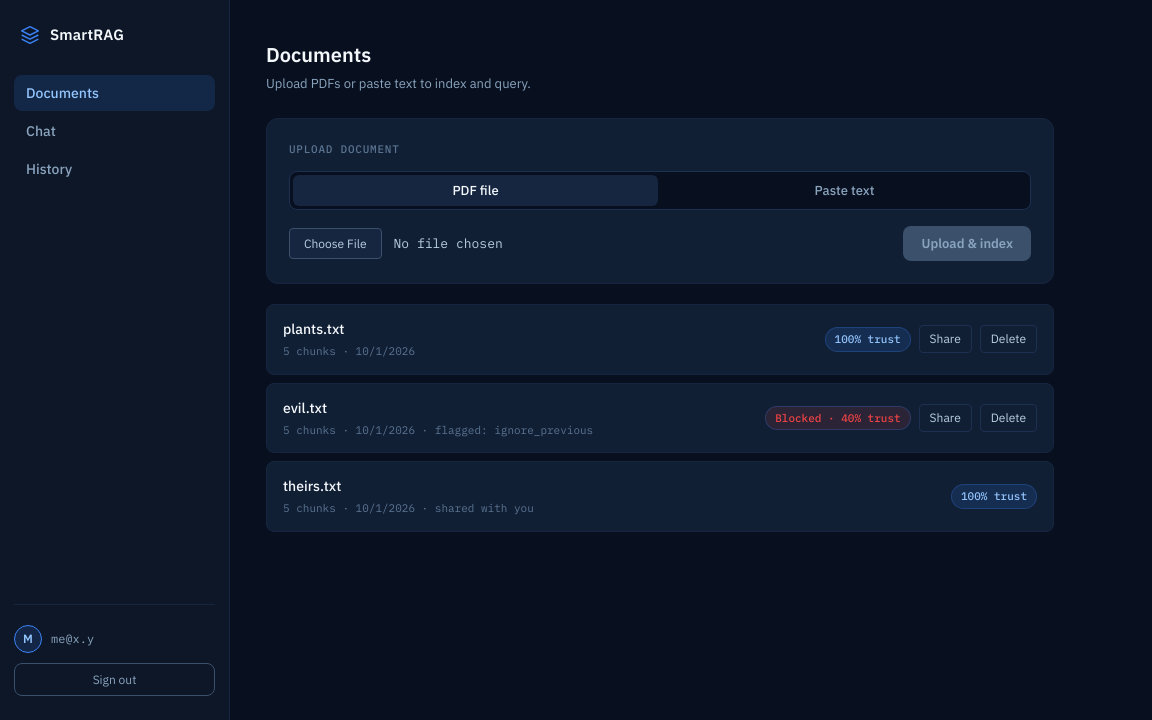
Test case: documents › shares a document by email and reports failures
Check: the text "plants.txt" is shown, box [283, 320, 344, 338]
Click the button with aria-label "Share plants.txt" at (945, 339), box [919, 325, 972, 353]
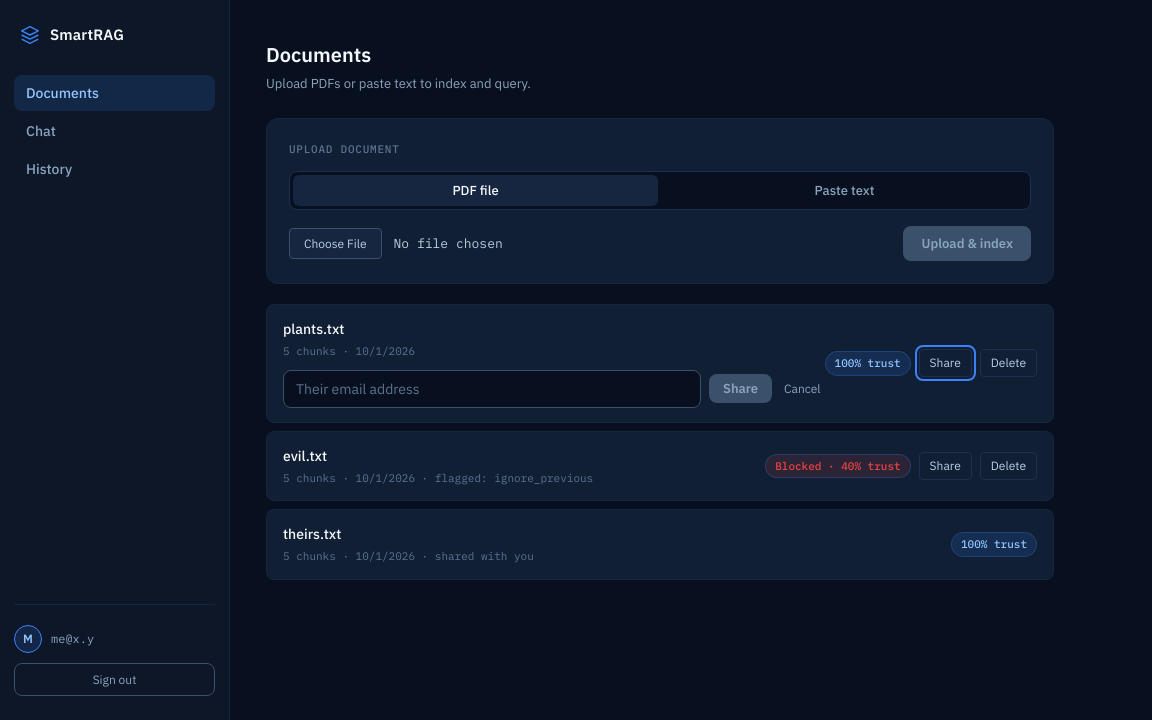
Type "friend@x.y" into the field named "Share with email" at (492, 388), box [283, 370, 701, 408]
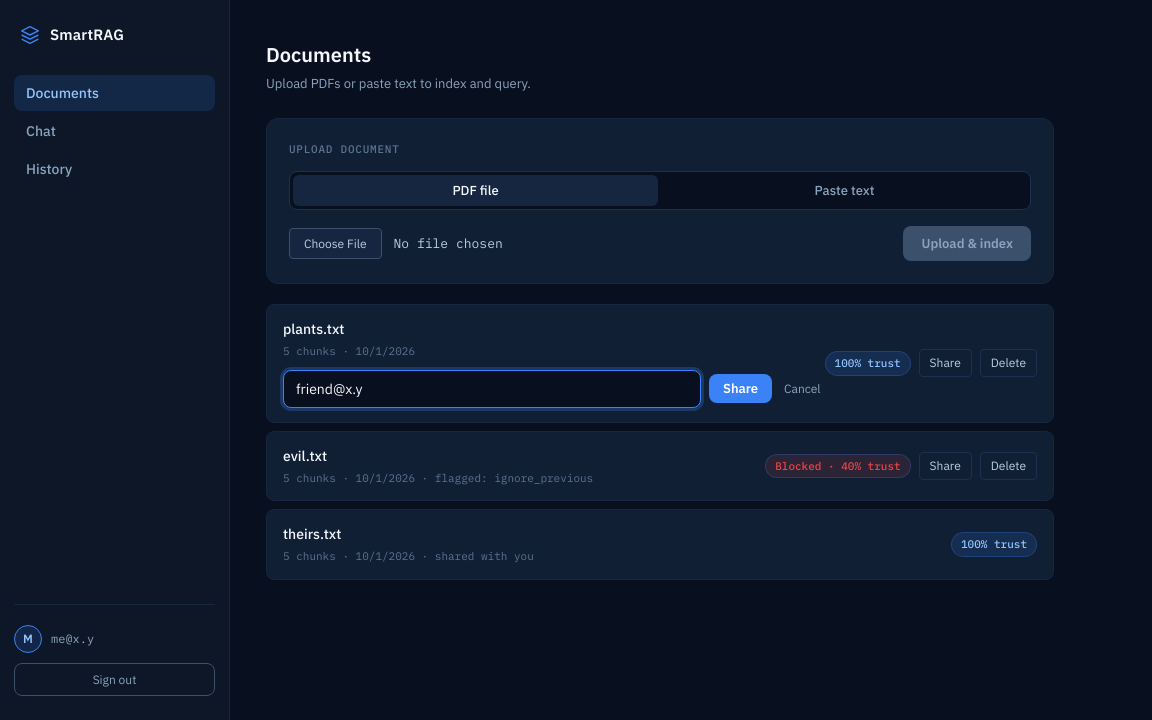
Click the 2nd button "Share" at (741, 388), box [709, 374, 772, 403]
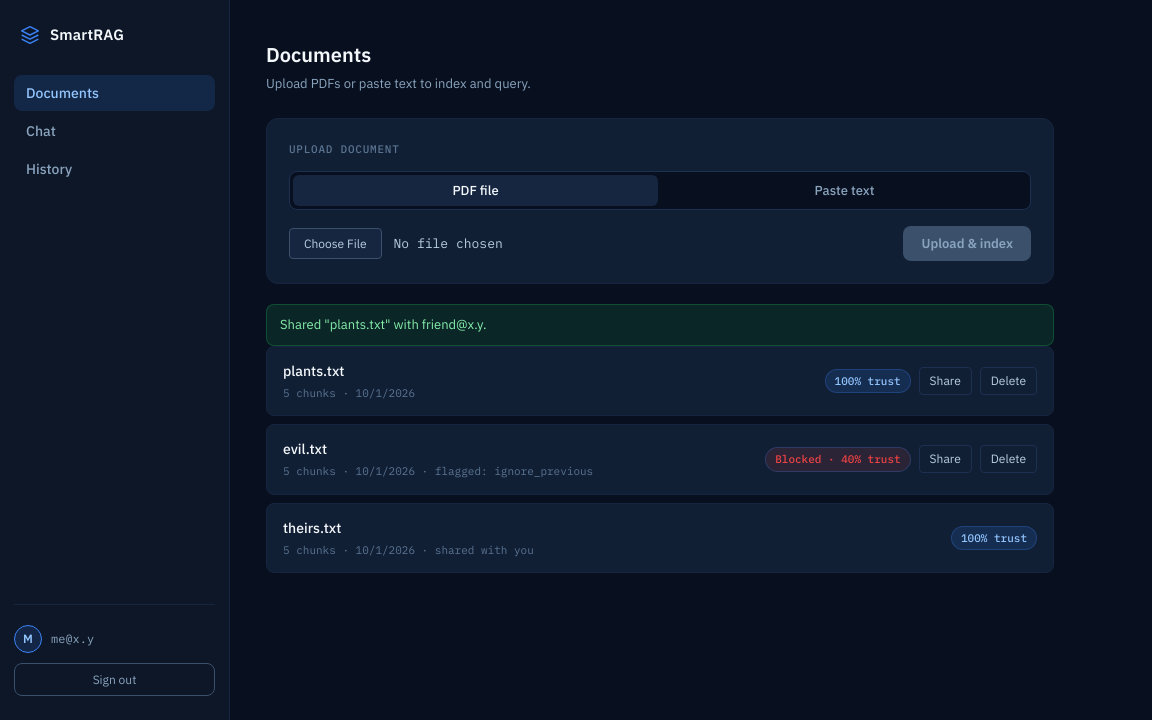
Check: the text "Shared \"plants.txt\" with friend@x.y." is shown, box [266, 304, 1054, 346]
